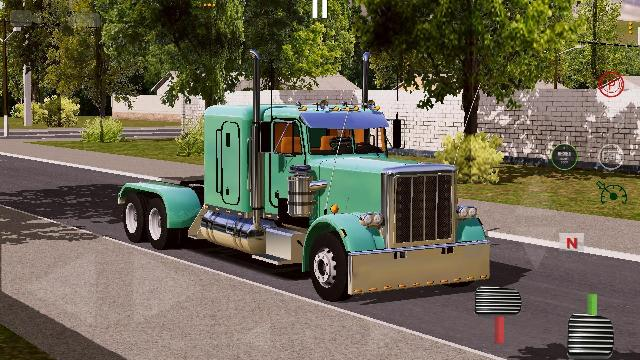truck: (121, 46, 494, 296)
